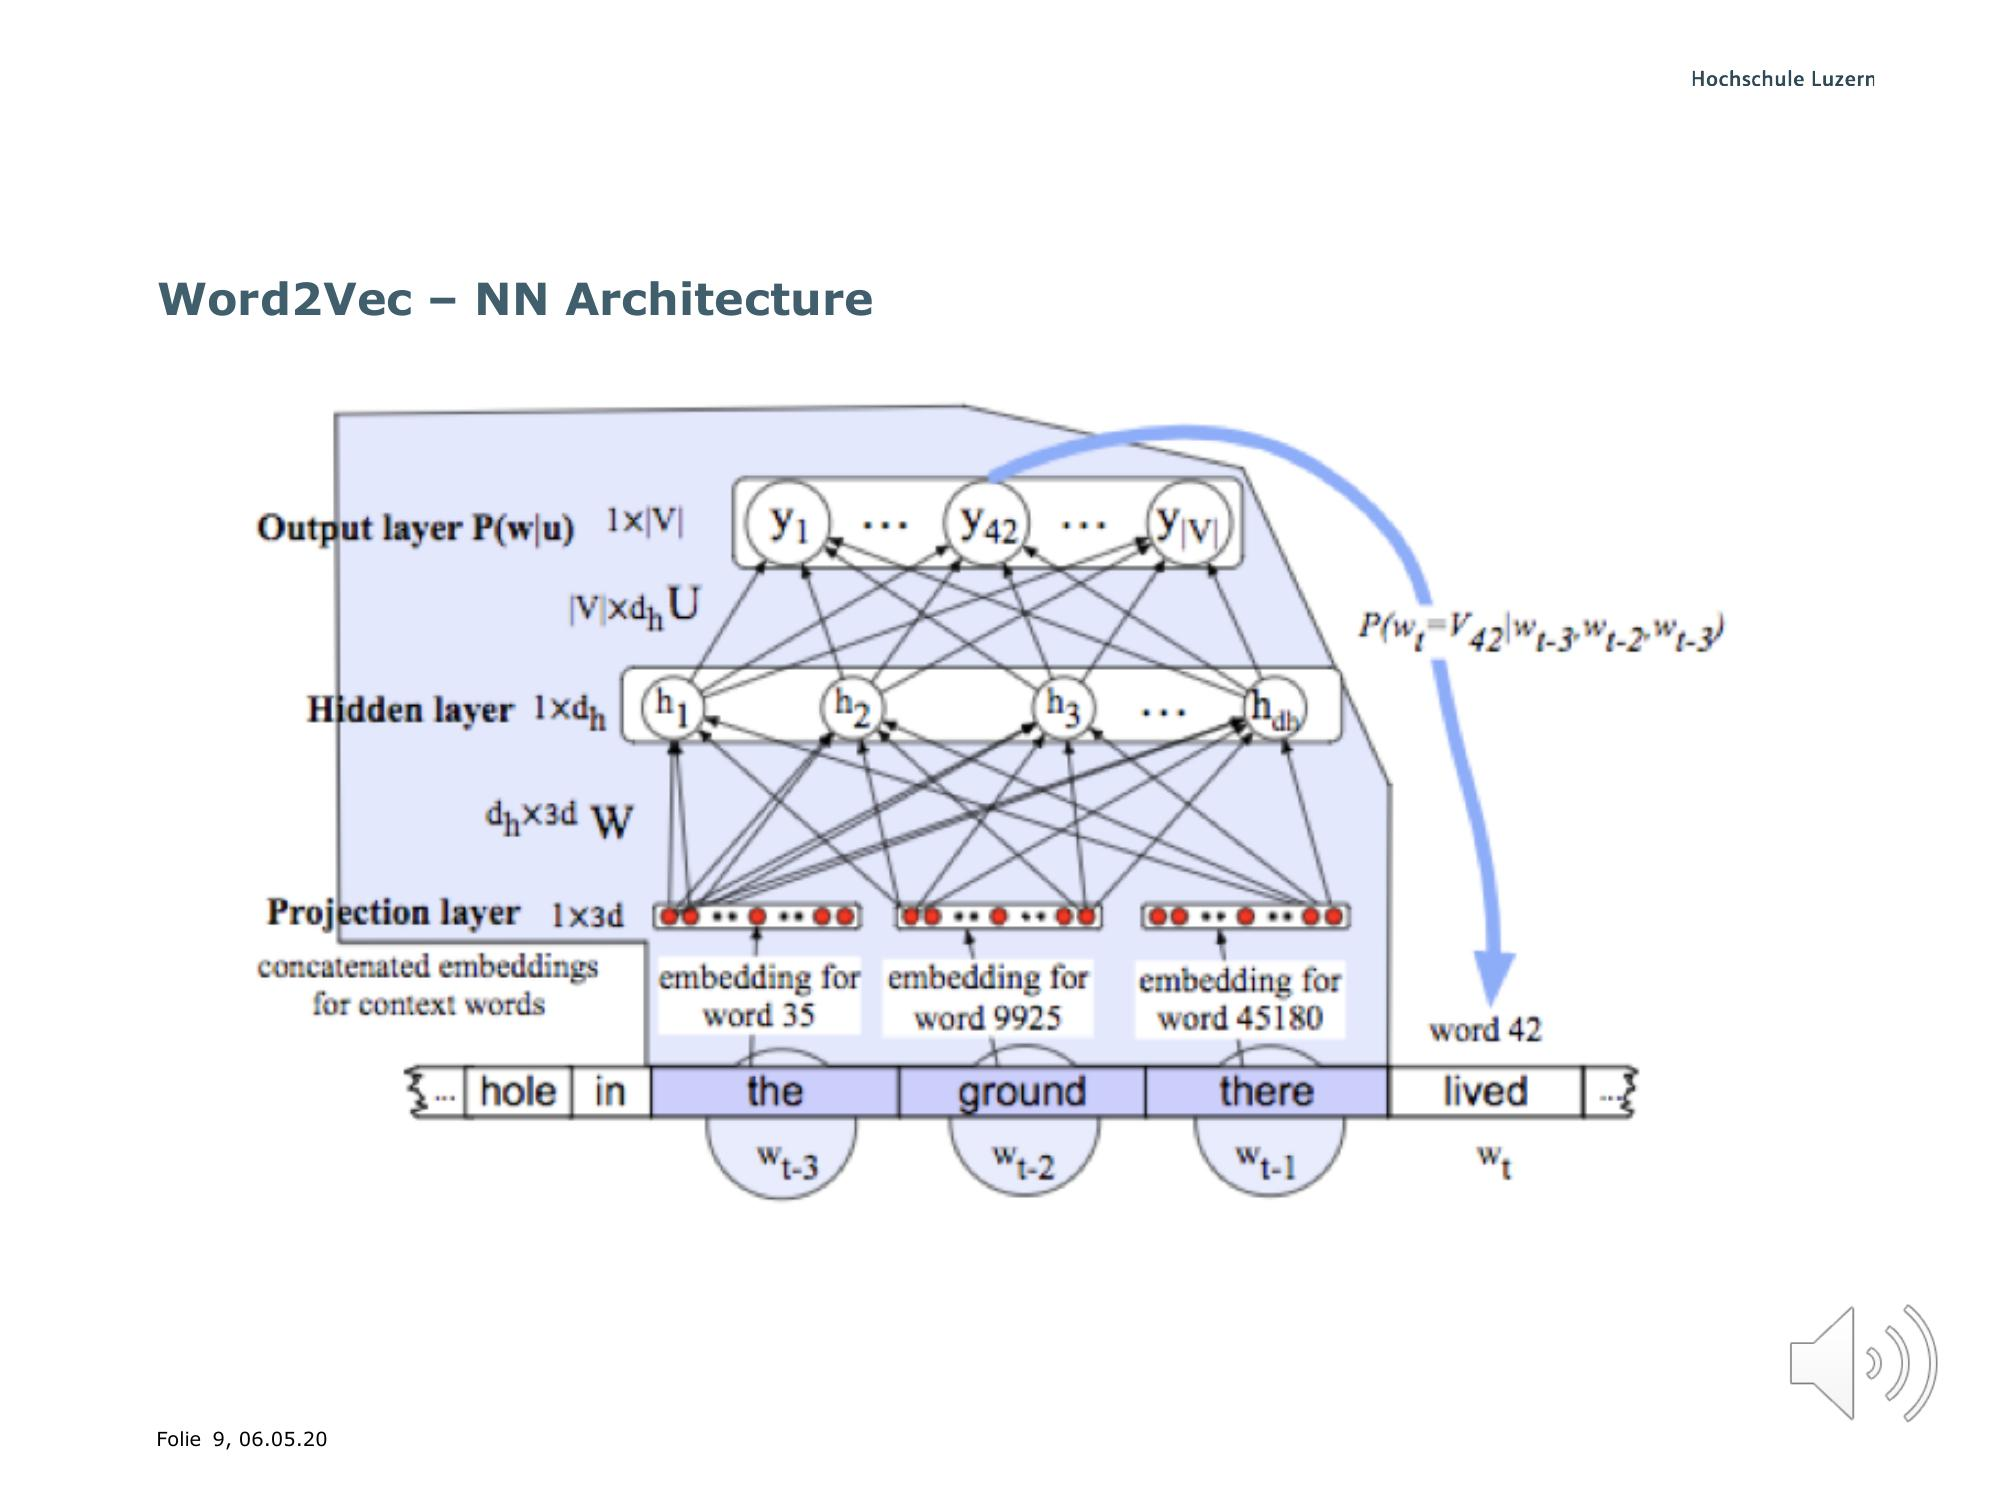Title: (139, 249, 887, 339)
